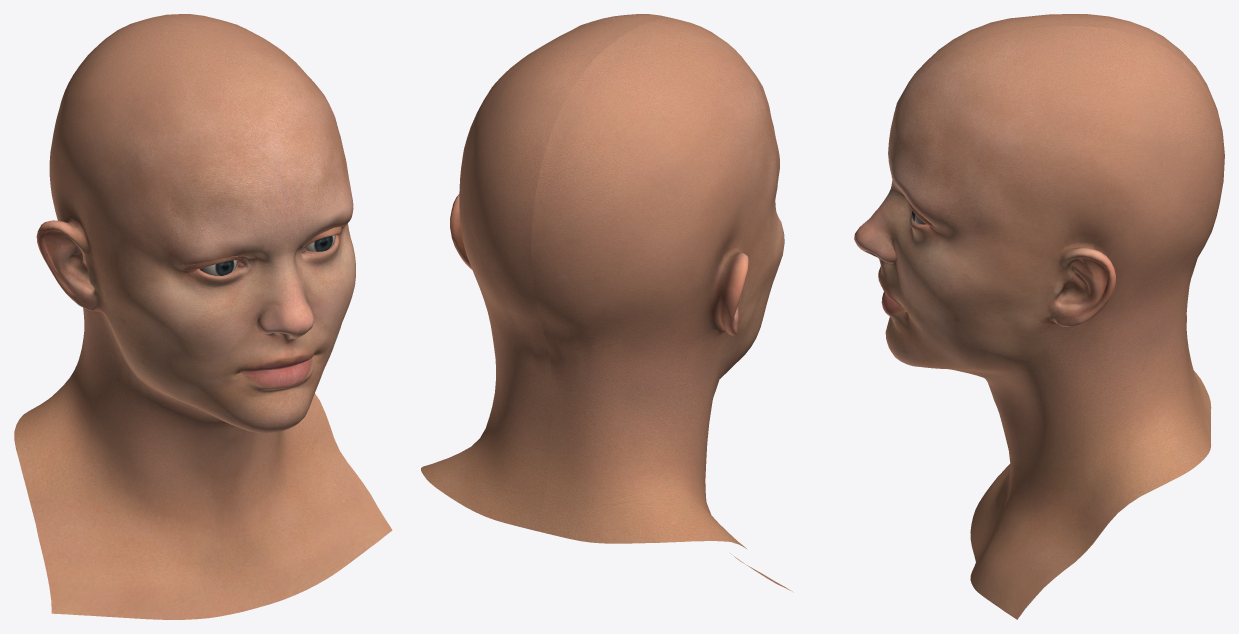
The model's file is head_1007.glb.
The picture shows the model from 3 angles, left to right: view 1: azimuth 30°, elevation 25°; view 2: azimuth 150°, elevation 25°; view 3: azimuth 270°, elevation 25°; orthographic projection. The views are drawn at different scales.
Visible parts, largest first — view 1: head; view 2: head; view 3: head.
Part boxes in pixels (x1,y1,x2,y2): head: [14, 14, 392, 619]; head: [421, 14, 793, 592]; head: [854, 14, 1224, 619].
Size of the model in its own units: 0.2297 by 0.3506 by 0.22.
Materials: 3 (2 with a texture image).
